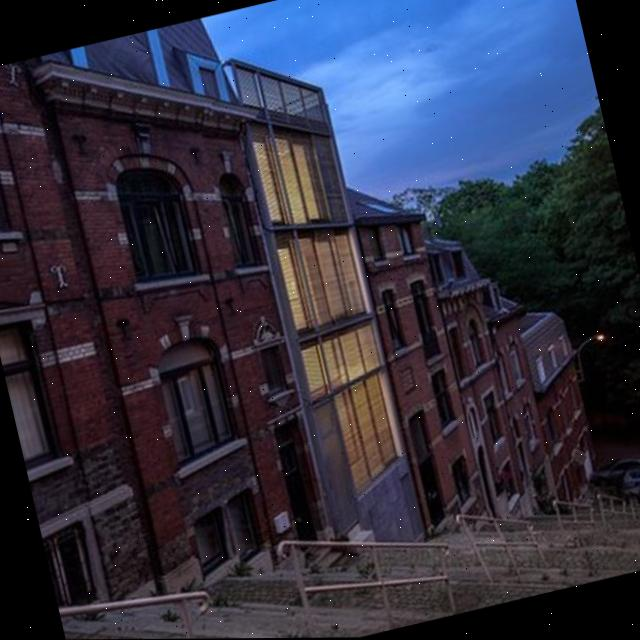building: (31, 15, 336, 592), (212, 0, 433, 571), (0, 56, 157, 612), (345, 165, 488, 537), (420, 224, 530, 516), (510, 295, 607, 511), (474, 265, 558, 509)
